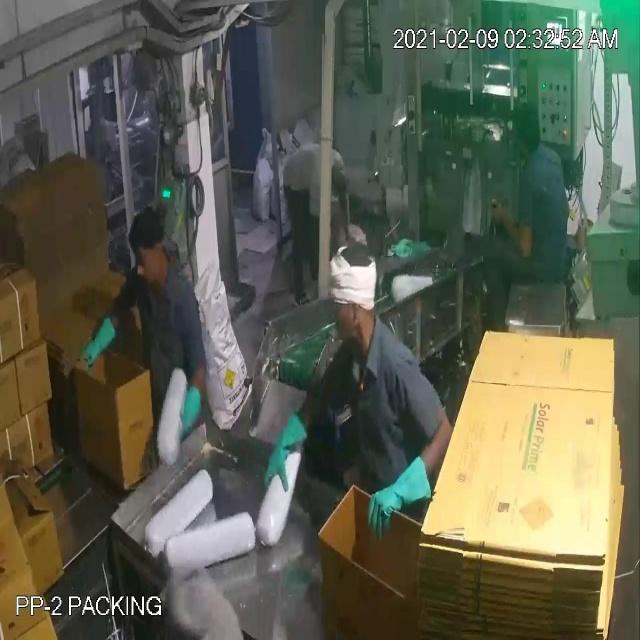Guantes: (345, 460, 437, 547), (258, 401, 313, 494), (70, 309, 127, 381), (170, 372, 214, 448)
Sin_guantes: (480, 187, 543, 266)
